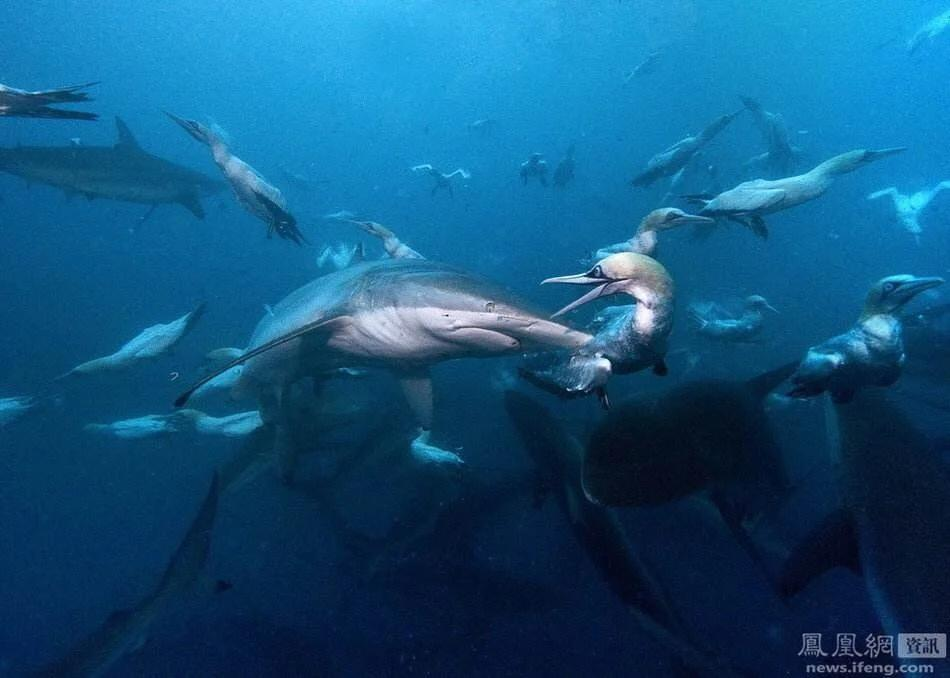fish: (175, 254, 580, 421)
